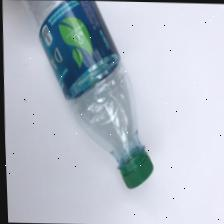plastic: (0, 0, 162, 198)
